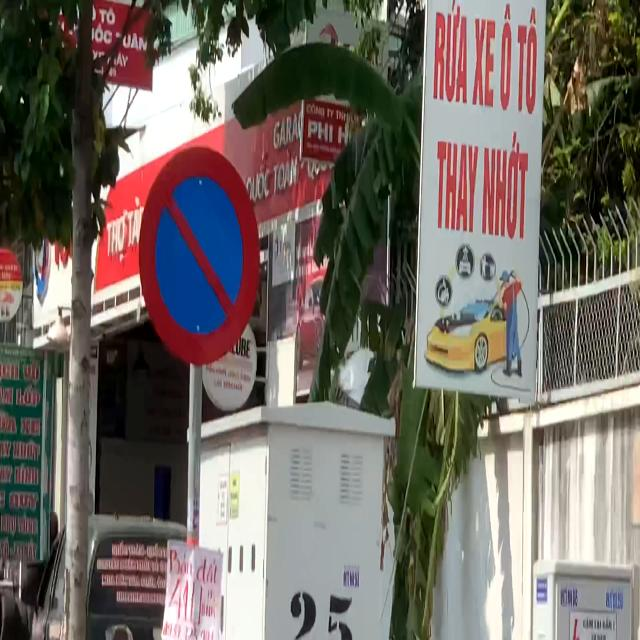P.131a: (138, 144, 262, 369)
